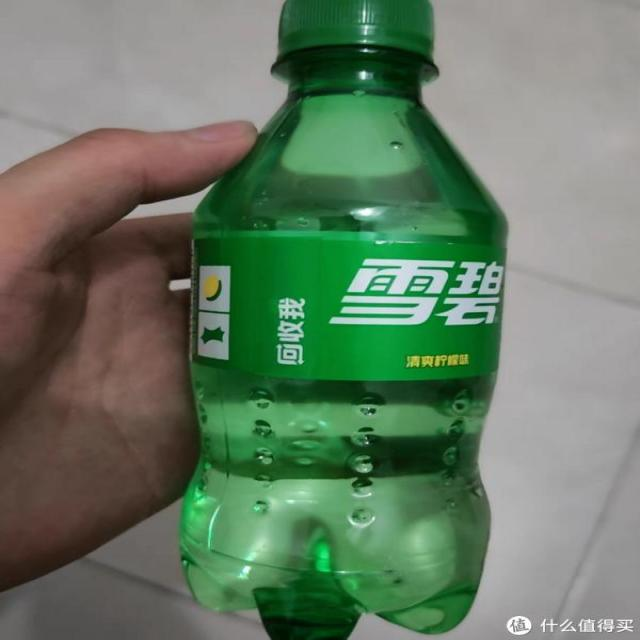bottle: (174, 0, 512, 640)
